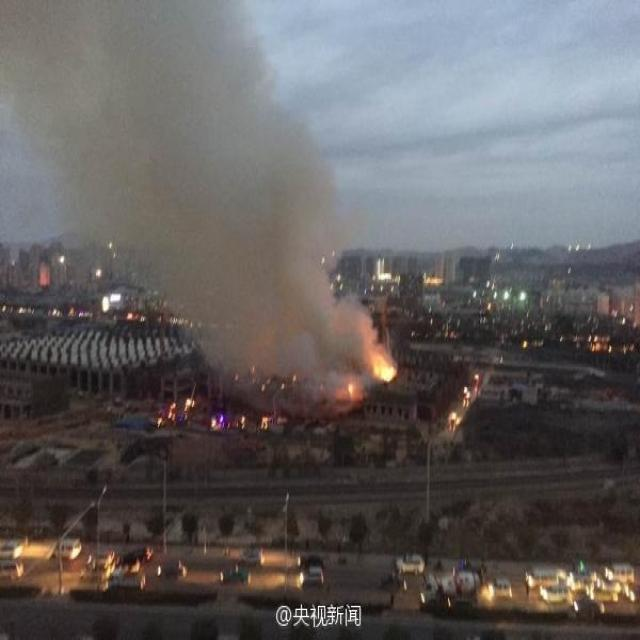Fire: (371, 351, 397, 383)
Smoke: (1, 1, 398, 421)
